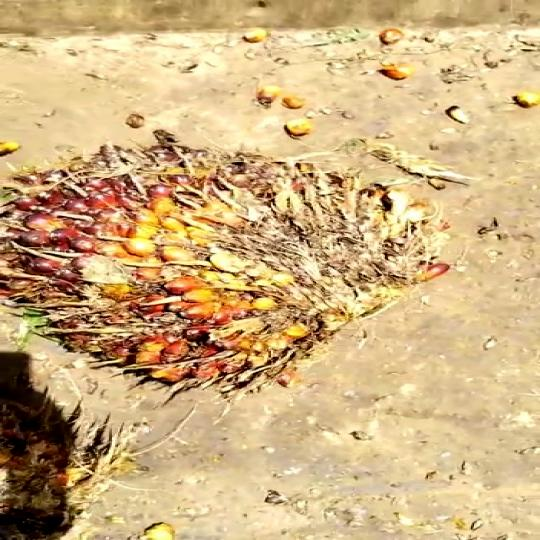masak: (0, 134, 455, 398)
